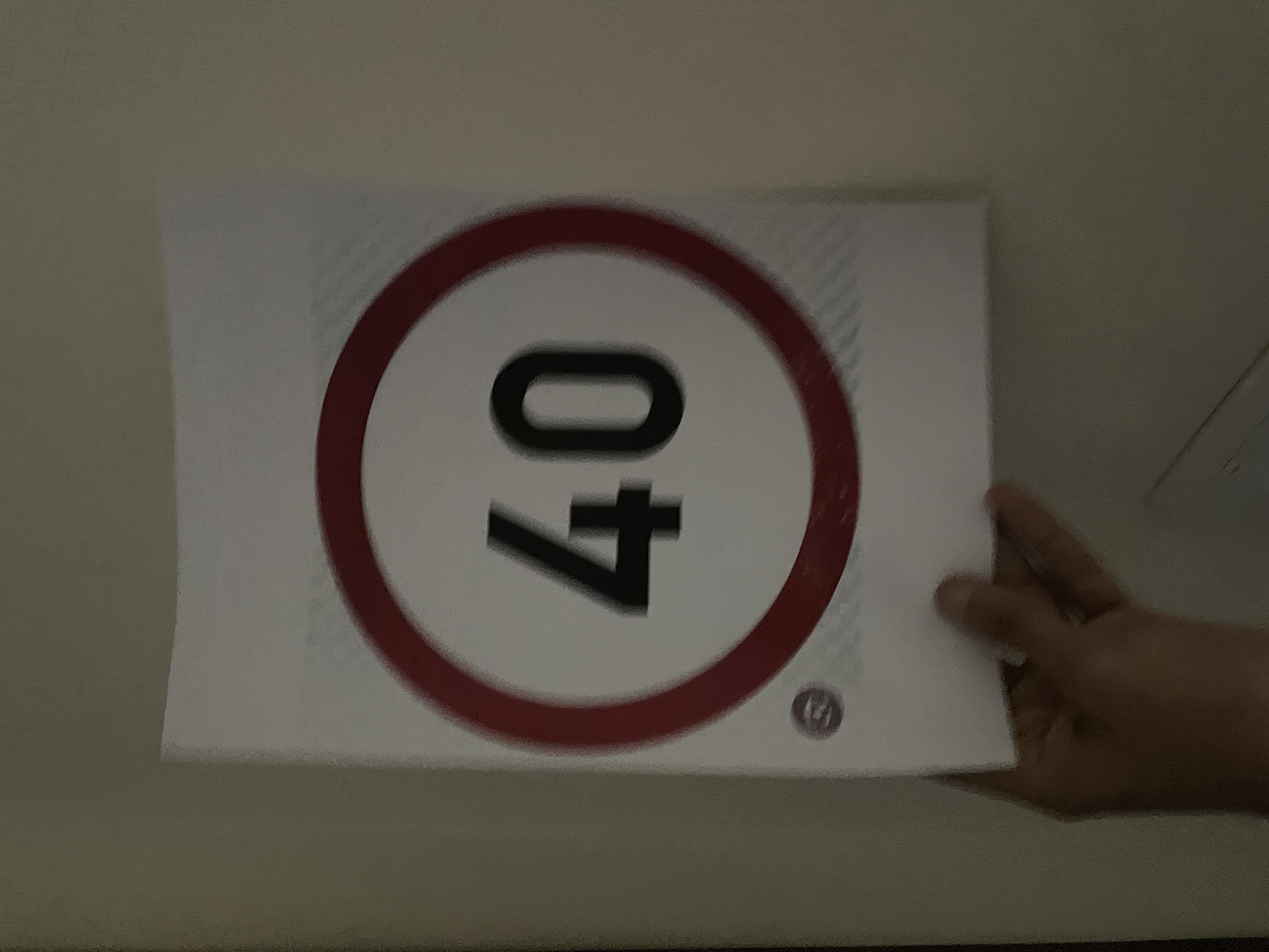40-Speed: (261, 232, 999, 638)
